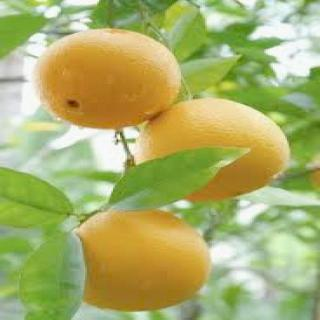orange: (124, 90, 302, 212), (34, 16, 188, 138)
